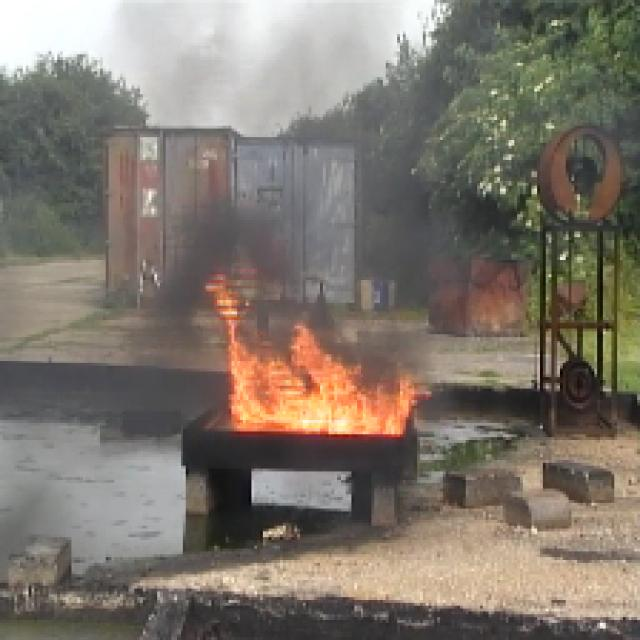fire: (225, 332, 412, 454)
